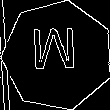M_S: (33, 29, 82, 82)
